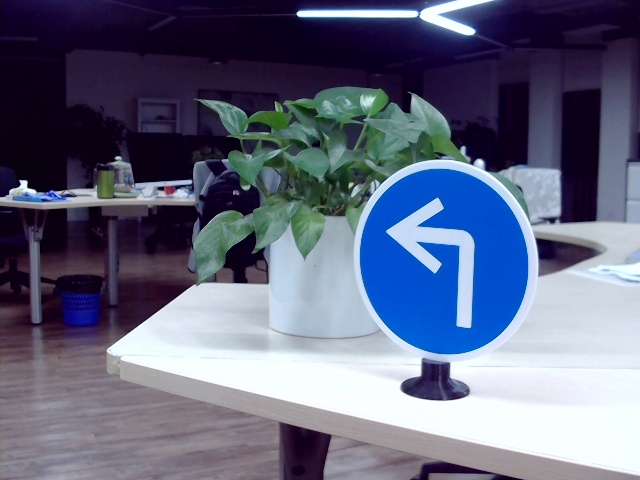turn_left: (389, 197, 475, 332)
